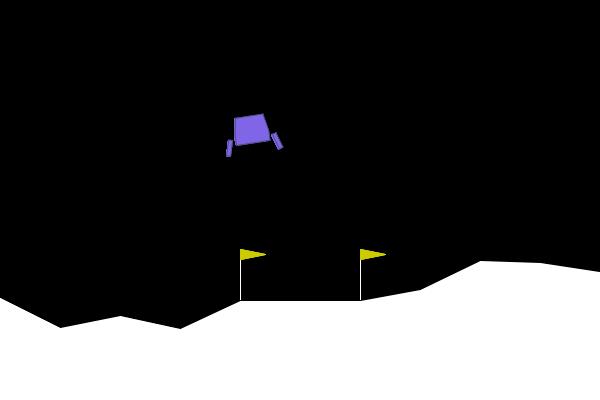lander: (219, 110, 284, 159)
